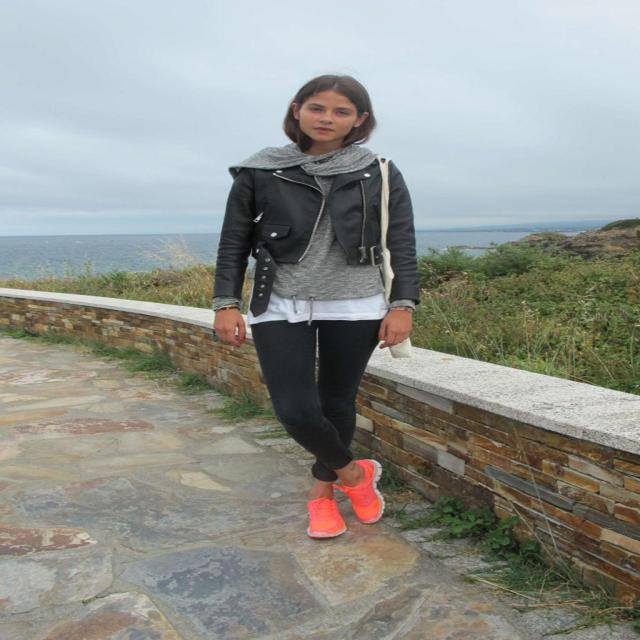Face: (291, 85, 372, 151)
